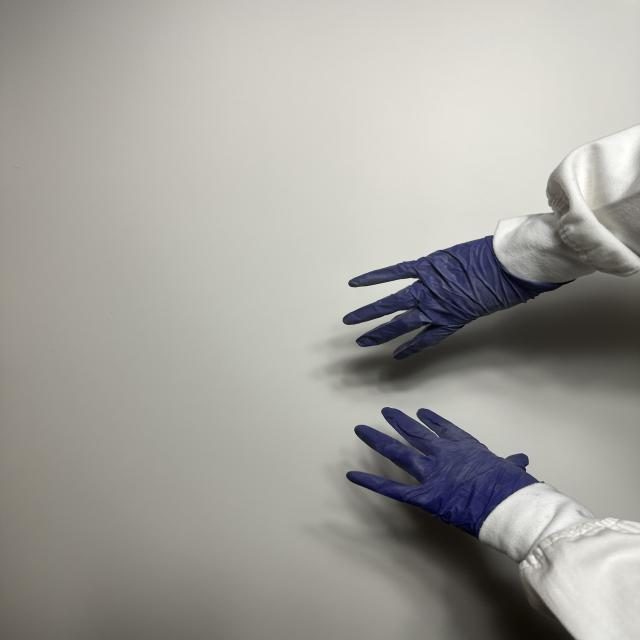gloves_contaminated: (343, 236, 561, 360), (347, 408, 539, 538)
